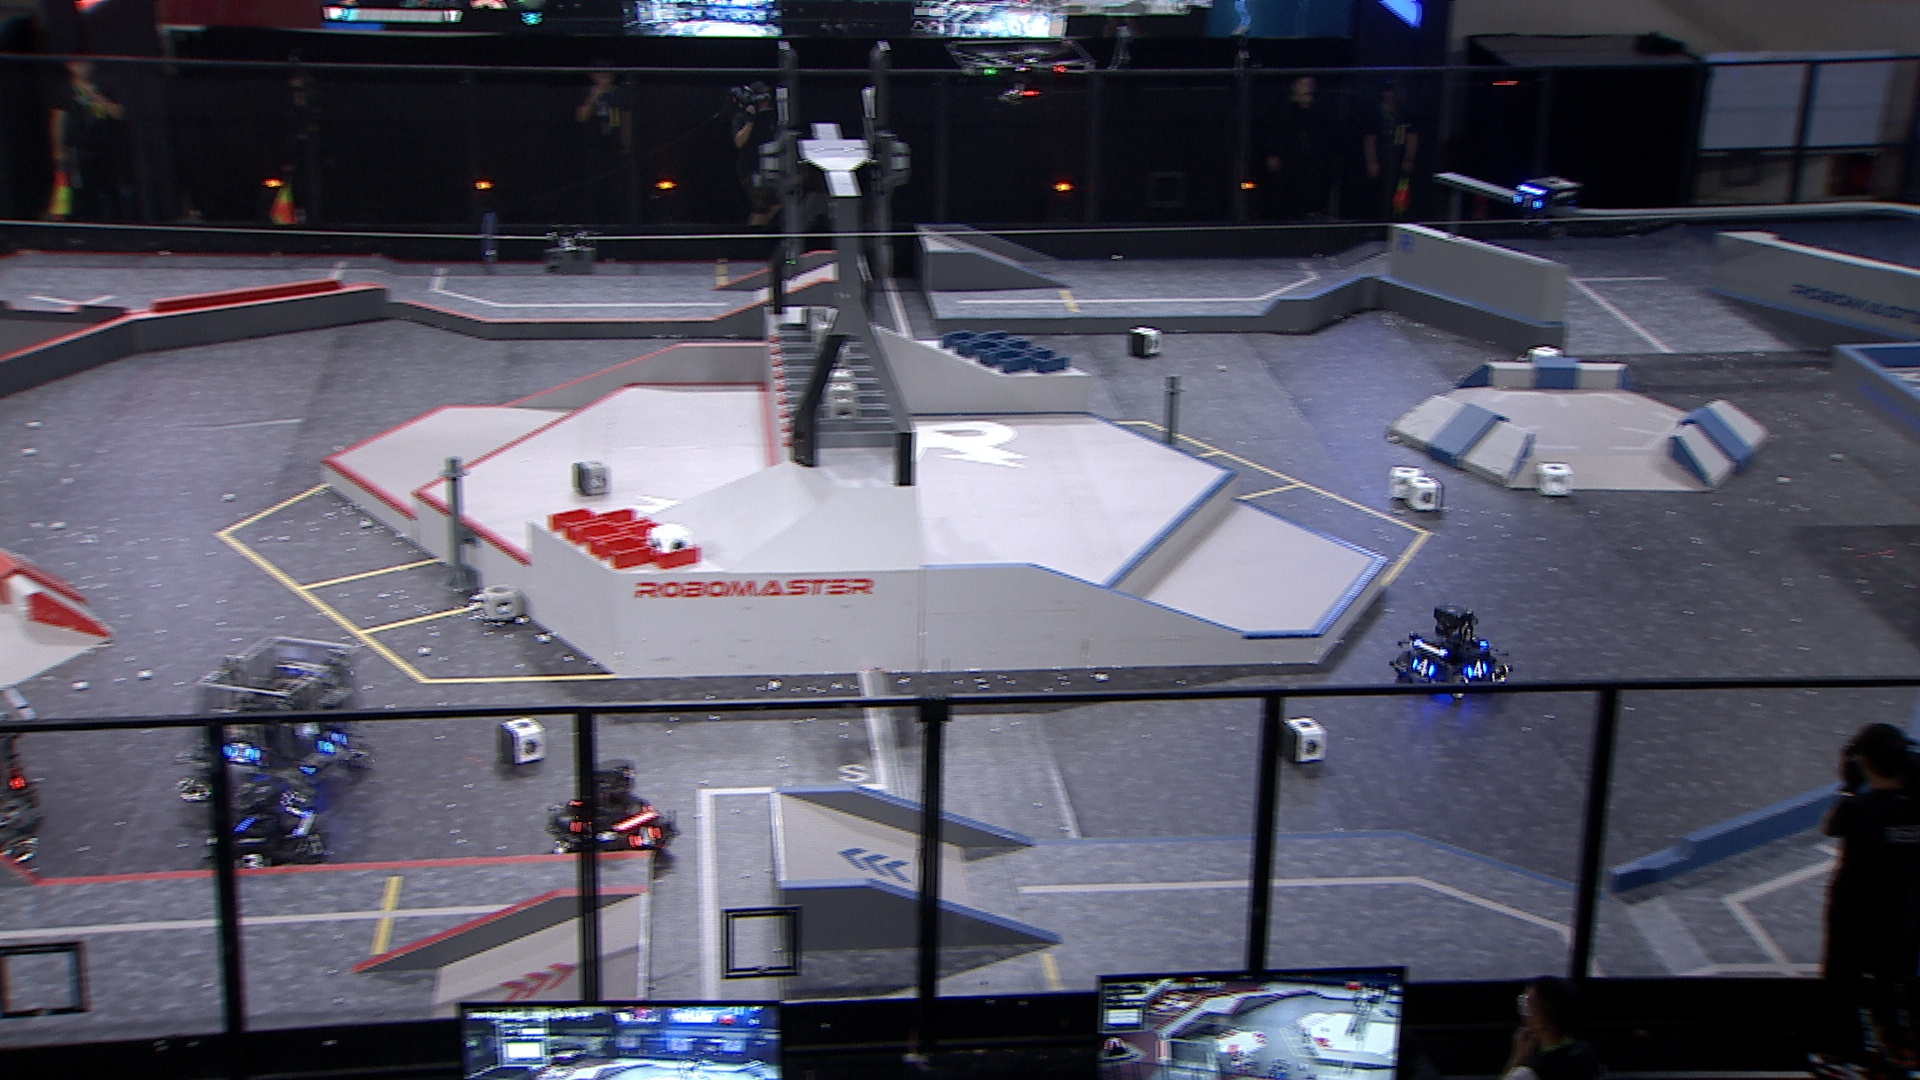armor: (229, 851, 276, 872), (319, 728, 349, 760), (224, 740, 261, 765), (629, 825, 665, 849), (301, 832, 328, 856), (1514, 194, 1544, 214), (1410, 657, 1436, 679), (1466, 659, 1490, 680)
car: (173, 633, 376, 814), (199, 781, 335, 894), (550, 752, 680, 866), (1390, 603, 1518, 702)
watcher: (1514, 177, 1576, 237)
